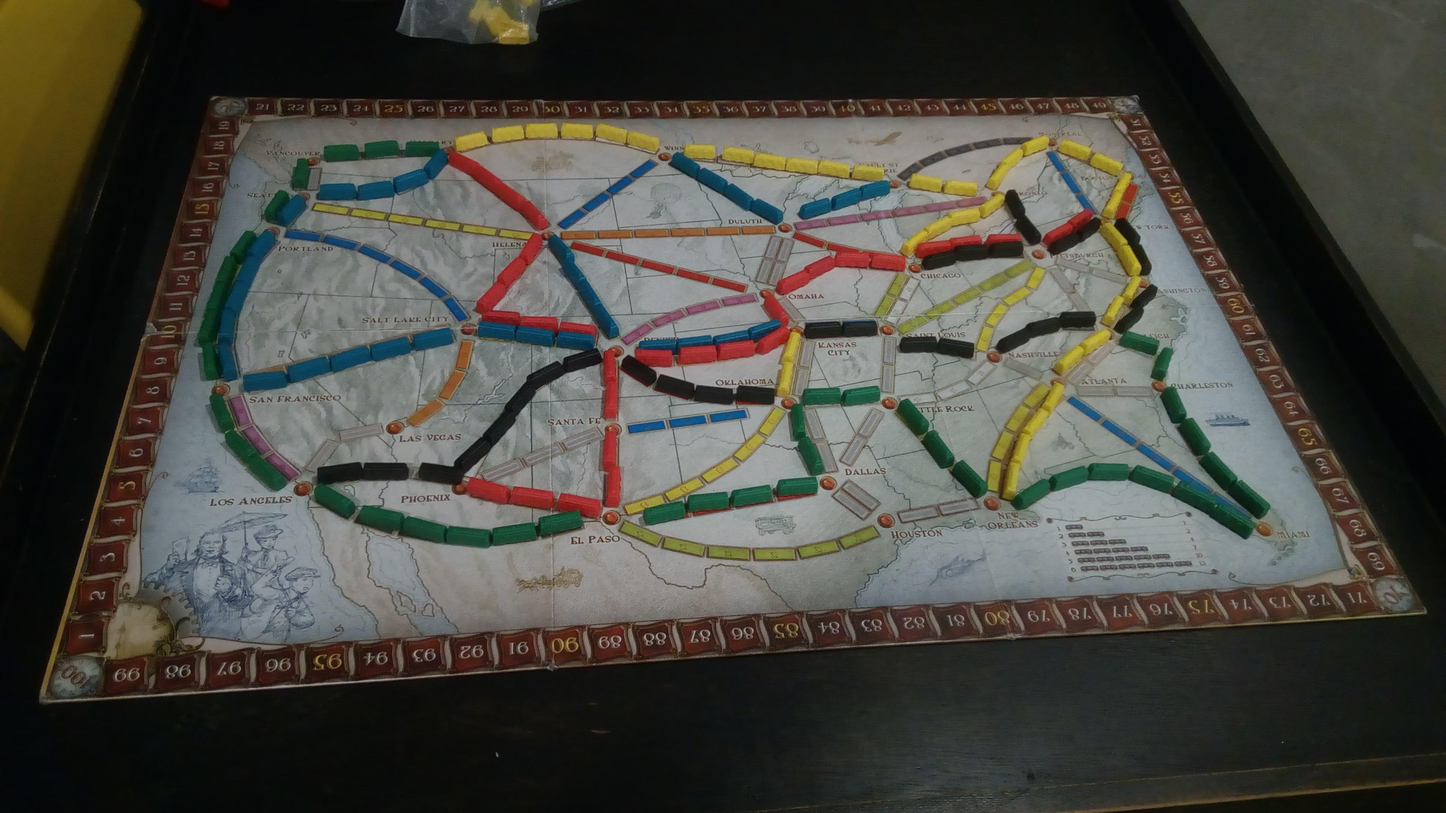black_train: (454, 437, 492, 472), (527, 361, 563, 391), (621, 356, 657, 386), (417, 463, 463, 485), (655, 375, 694, 399), (484, 413, 515, 443), (317, 463, 363, 483), (563, 348, 601, 372), (504, 387, 535, 415), (932, 338, 975, 358), (1015, 214, 1041, 247), (996, 329, 1030, 353), (363, 462, 409, 479), (693, 385, 734, 404), (735, 385, 776, 404), (1025, 317, 1060, 337), (804, 321, 842, 339), (922, 249, 956, 269), (1115, 218, 1140, 245), (1049, 233, 1081, 254), (1059, 311, 1096, 329), (1116, 309, 1142, 334), (899, 336, 937, 353), (1132, 244, 1152, 276), (1132, 286, 1159, 309), (842, 319, 877, 336), (954, 244, 988, 261), (1077, 216, 1101, 240), (1005, 189, 1025, 217), (988, 242, 1023, 257)
blue_train: (287, 356, 331, 382), (328, 345, 371, 371), (370, 336, 412, 360), (411, 327, 454, 350), (243, 370, 289, 391), (593, 304, 620, 339), (279, 194, 306, 226), (750, 198, 783, 224), (393, 169, 430, 192), (218, 340, 239, 380), (224, 281, 251, 312), (722, 184, 753, 210), (357, 179, 395, 200), (517, 326, 555, 346), (248, 231, 276, 258), (578, 280, 602, 311), (697, 169, 729, 192), (548, 234, 574, 262), (477, 321, 515, 340), (556, 331, 595, 349), (235, 256, 261, 283), (670, 154, 700, 177), (831, 188, 862, 210), (317, 183, 357, 200), (798, 198, 832, 218), (424, 150, 448, 178), (562, 259, 586, 287), (748, 320, 781, 340), (857, 180, 891, 199), (218, 311, 237, 338), (639, 338, 678, 351), (713, 330, 748, 344), (679, 335, 713, 348)
green_train: (243, 454, 288, 491), (1227, 480, 1269, 518), (1208, 504, 1254, 538), (312, 485, 357, 519), (1200, 451, 1237, 489), (355, 506, 405, 533), (1171, 482, 1215, 512), (951, 460, 985, 497), (922, 430, 955, 468), (896, 398, 929, 436), (1178, 417, 1210, 456), (1128, 466, 1175, 492), (401, 516, 448, 542), (1012, 479, 1051, 509), (538, 510, 583, 536), (492, 522, 537, 546), (798, 436, 824, 476), (445, 526, 491, 548), (643, 502, 686, 525), (1161, 386, 1187, 424), (731, 485, 773, 508), (1120, 331, 1158, 356), (210, 394, 235, 432), (1051, 466, 1088, 491), (197, 308, 221, 346), (263, 191, 291, 223), (224, 429, 255, 457), (687, 492, 729, 512), (230, 231, 257, 262), (775, 477, 817, 496), (841, 386, 880, 406), (215, 257, 238, 289), (1088, 463, 1131, 480), (1151, 348, 1173, 381), (201, 342, 220, 379), (365, 140, 400, 159), (802, 388, 841, 405), (206, 283, 228, 313), (789, 405, 807, 441), (323, 144, 361, 161), (291, 159, 310, 189), (404, 141, 439, 157)
red_train: (555, 493, 601, 518), (466, 477, 509, 503), (510, 486, 556, 509), (475, 282, 507, 313), (494, 182, 528, 210), (755, 327, 790, 354), (776, 269, 811, 296), (497, 256, 527, 287), (519, 201, 550, 230), (762, 292, 789, 325), (471, 167, 502, 194), (679, 344, 717, 365), (600, 427, 618, 471), (804, 255, 838, 278), (718, 339, 755, 360), (1042, 222, 1073, 246), (914, 239, 953, 258), (603, 466, 621, 507), (520, 233, 543, 265), (636, 348, 674, 367), (449, 153, 481, 175), (870, 253, 905, 271), (481, 310, 521, 325), (833, 252, 870, 268), (558, 321, 597, 336), (521, 316, 560, 331), (1068, 209, 1095, 229), (604, 381, 618, 418), (985, 233, 1021, 245), (604, 349, 616, 384), (951, 235, 983, 248)
